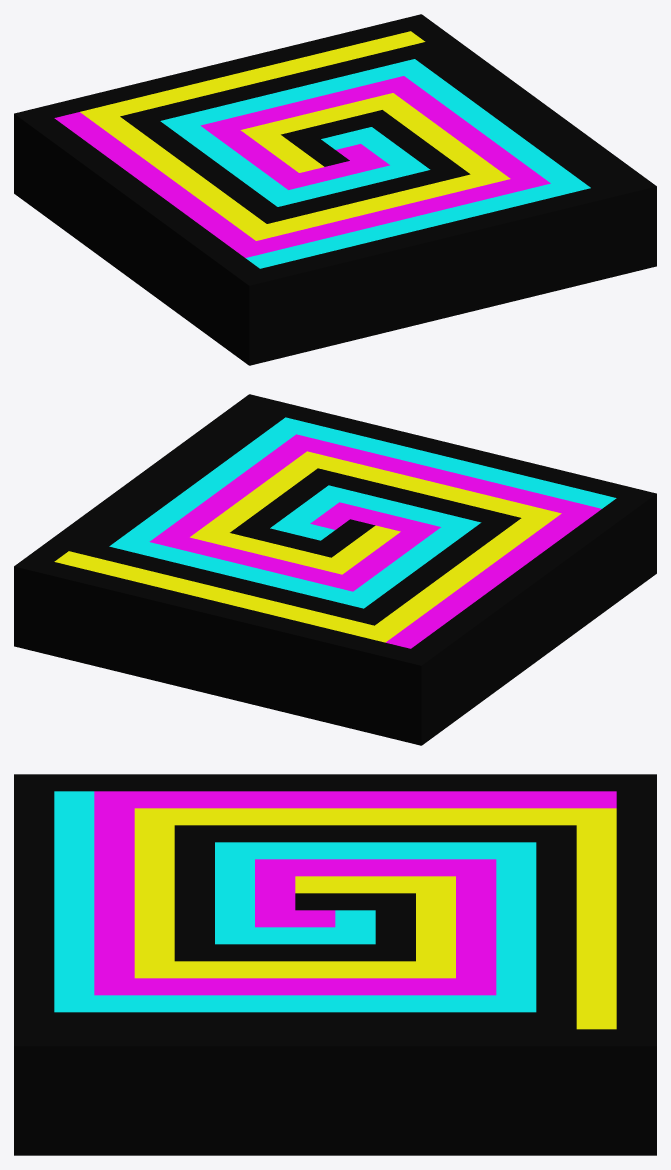
Rendered from back1.obj.
3 views of the same model, one above another, from view 1: azimuth 30°, elevation 25°; view 2: azimuth 150°, elevation 25°; view 3: azimuth 270°, elevation 25° (orthographic). The views are drawn at different scales.
Visible parts, largest first — view 1: back1; view 2: back1; view 3: back1.
Part boxes in pixels (x1,y1,x2,y2): back1: [14, 14, 656, 365]; back1: [14, 394, 656, 745]; back1: [14, 774, 656, 1155].
Size of the model in its own units: 16 by 3 by 16.
Materials: 1 (1 with a texture image).
